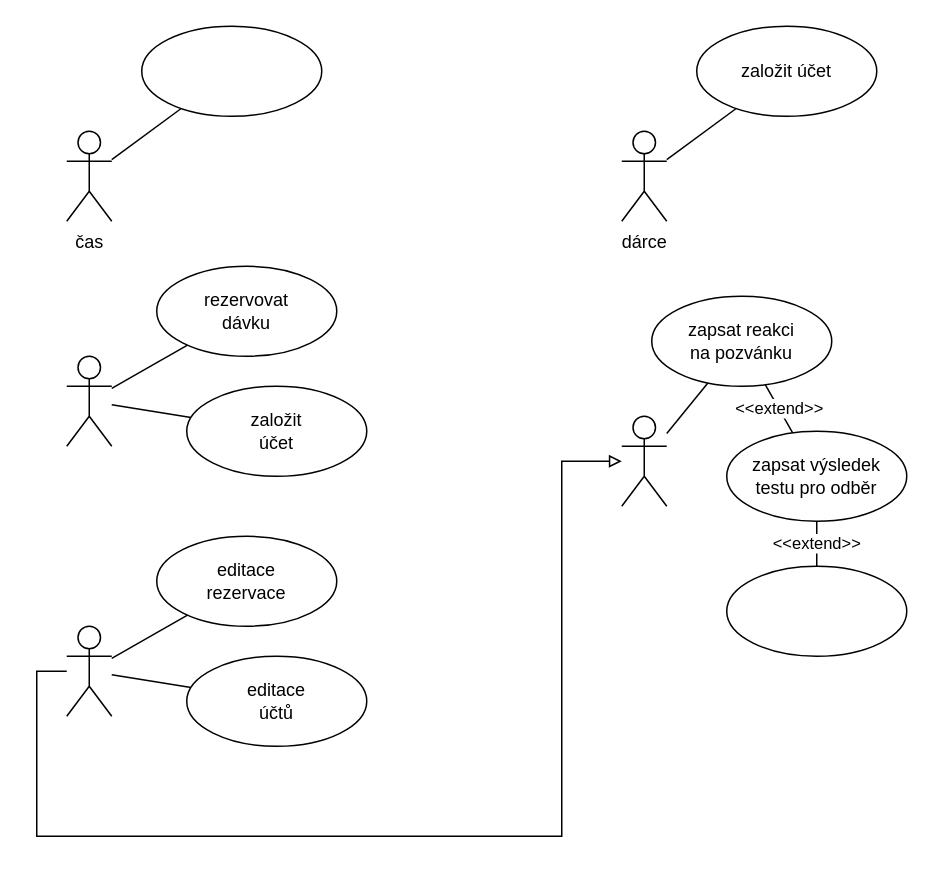
Some shapes in this 933 by 875 pixel diagram are drawn without their labels. Here are the shapes that lost their labels. From the top down, the centre of each, then its label:
At (231,70): "pozvat dárce".
At (88,400): "klient".
At (643,460): "pracovník pobočky".
At (816,610): "zapsat výsledek testu vhodnosti pro konzumaci".
At (88,670): "správce systému".
